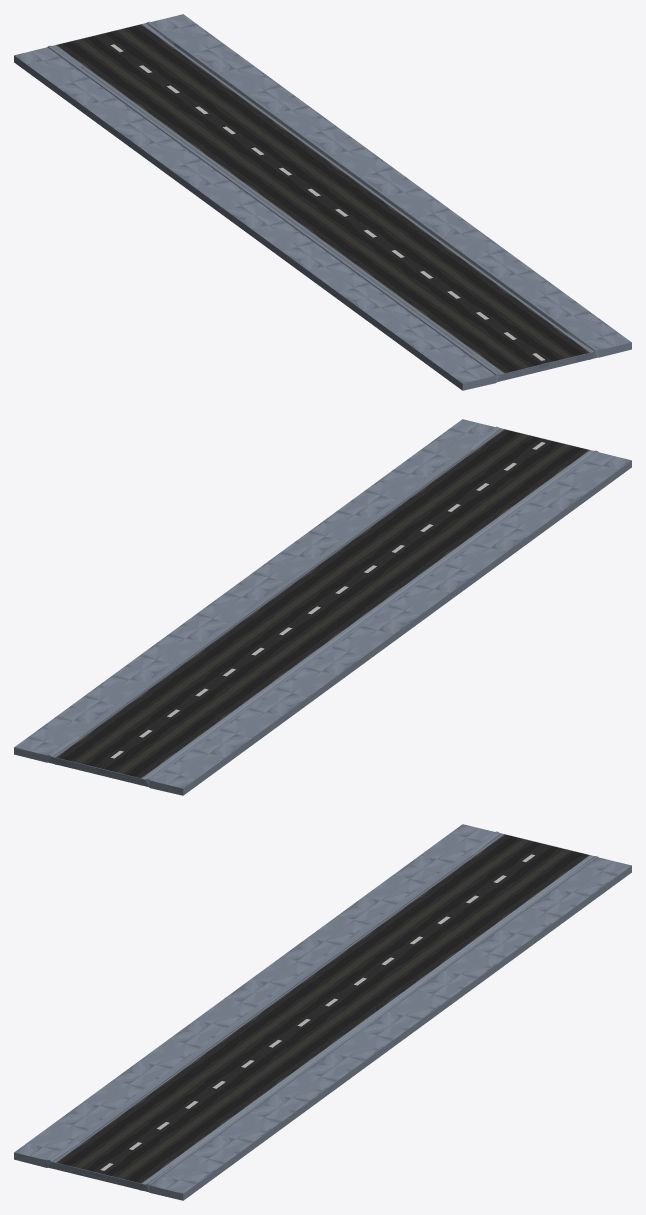
The model's file is Road5_301222.fbx.
3 views of the same model, one above another, from view 1: azimuth 30°, elevation 25°; view 2: azimuth 150°, elevation 25°; view 3: azimuth 330°, elevation 25° (orthographic).
Visible parts, largest first — view 1: Road5__301222_; view 2: Road5__301222_; view 3: Road5__301222_.
Part boxes in pixels (bbox=[...]): Road5__301222_: bbox=[14, 14, 631, 390]; Road5__301222_: bbox=[14, 419, 631, 795]; Road5__301222_: bbox=[14, 824, 631, 1200].
Size of the model in its own units: 1310 by 61.09 by 6020.
2 materials, 2 textured.
